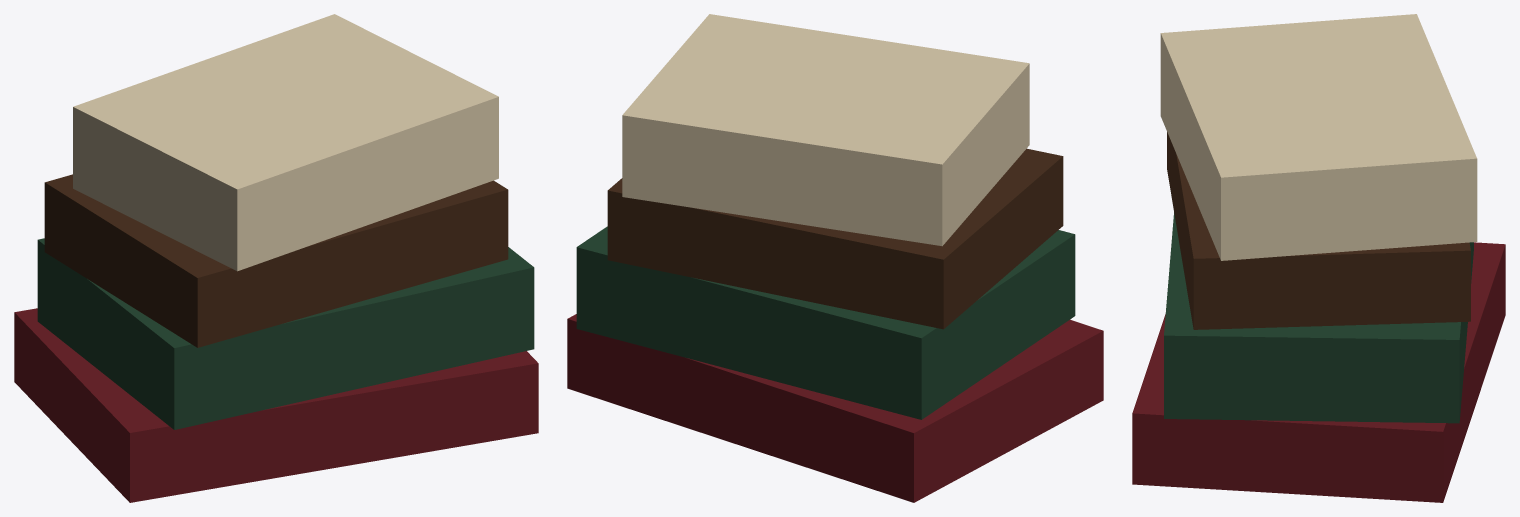
File: book_stack.glb
3 renders of one model, left to right at view 1: azimuth 30°, elevation 25°; view 2: azimuth 150°, elevation 25°; view 3: azimuth 270°, elevation 25°, orthographic.
Parts seen in each view (by area): view 1: Part3, Part1, Part0, Part2; view 2: Part3, Part1, Part0, Part2; view 3: Part3, Part0, Part1, Part2.
Part boxes in pixels (x1,y1,x2,y2): Part3: (73, 14, 498, 271); Part1: (37, 238, 534, 429); Part0: (14, 308, 538, 502); Part2: (44, 174, 508, 347); Part3: (622, 14, 1029, 246); Part1: (576, 226, 1075, 419); Part0: (567, 314, 1103, 502); Part2: (607, 148, 1063, 329); Part3: (1160, 14, 1477, 260); Part0: (1132, 242, 1505, 502); Part1: (1164, 212, 1473, 423); Part2: (1167, 132, 1470, 329).
Bounding box in the file's own units: 0.2175 × 0.152 × 0.1665.
